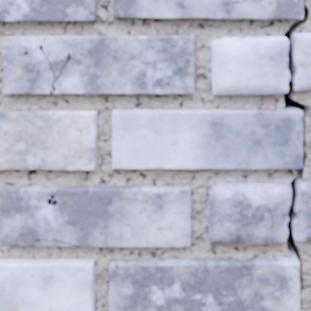brick: (1, 186, 190, 246), (112, 110, 301, 168), (3, 36, 193, 93), (109, 258, 299, 310), (0, 111, 96, 169), (0, 260, 93, 310), (114, 0, 302, 19), (0, 0, 96, 21)
broken_brick: (208, 183, 289, 245), (211, 36, 288, 94), (294, 32, 310, 91), (295, 180, 310, 242)
crack: (283, 2, 310, 308), (38, 43, 72, 94), (33, 238, 78, 247)
